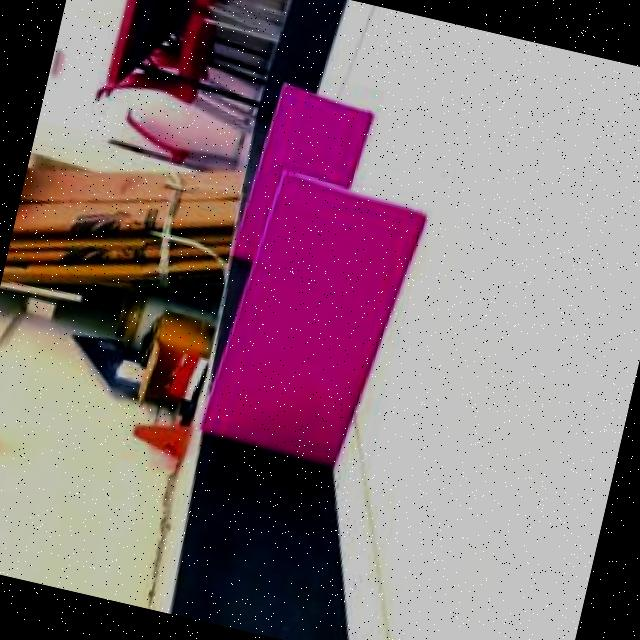xparking: (220, 168, 410, 466), (266, 88, 369, 183)
